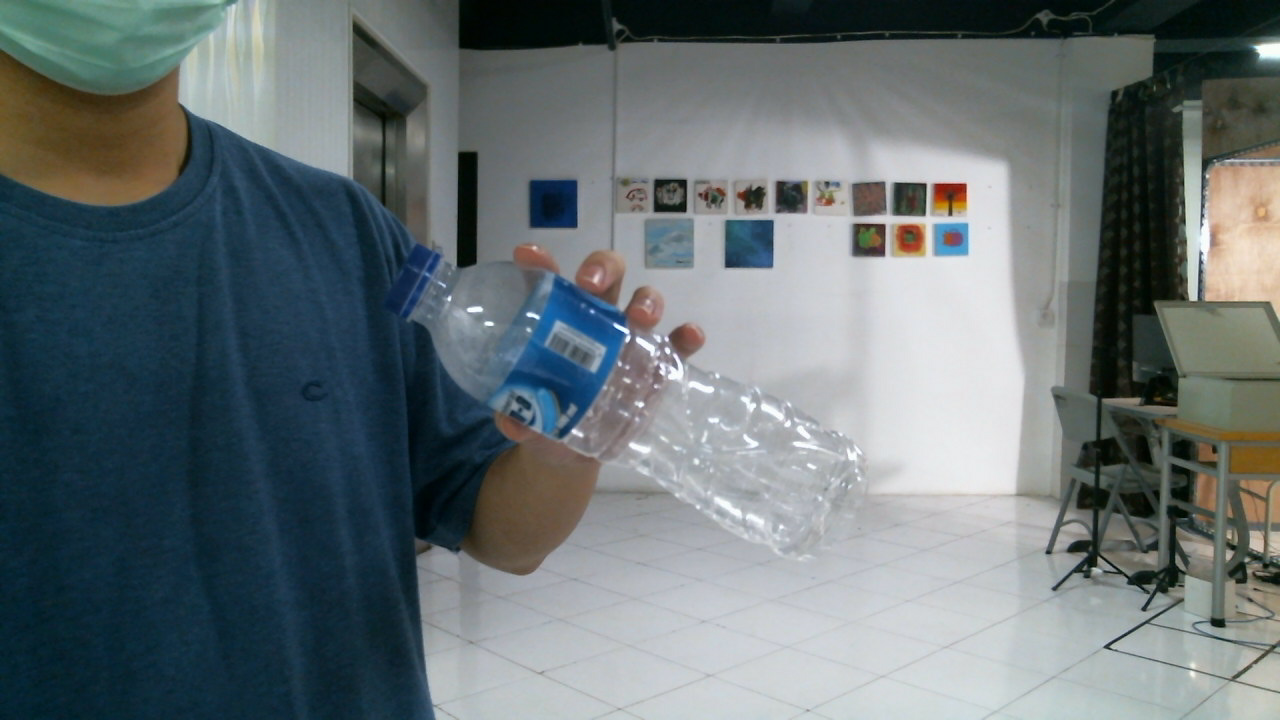Bottle: (389, 246, 870, 562)
